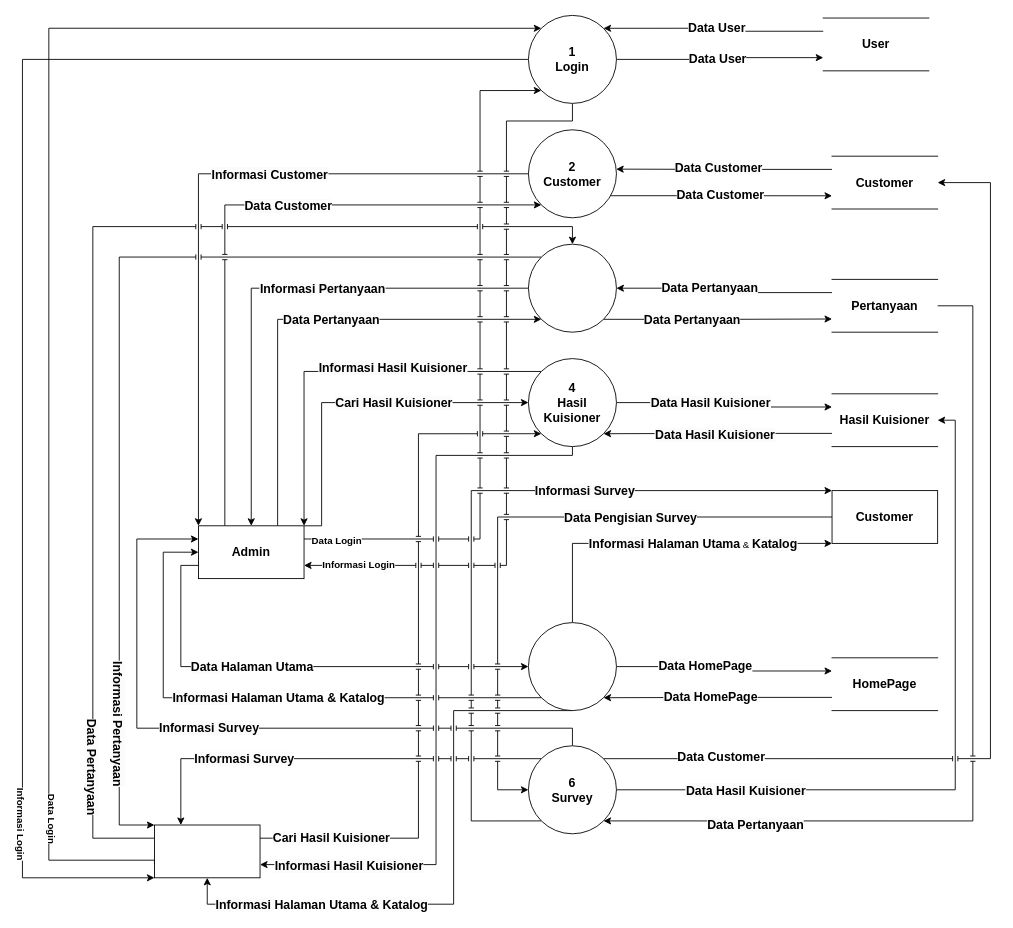
The diagram is 1013 pixels wide and 928 high, and some of its shapes have lost their labels. Each missing label, with the centre of its shape:
"3 Pertanyaan" belongs at (572,287).
"5 Halaman Utama" belongs at (572,666).
"Pimpinan" belongs at (207,851).
